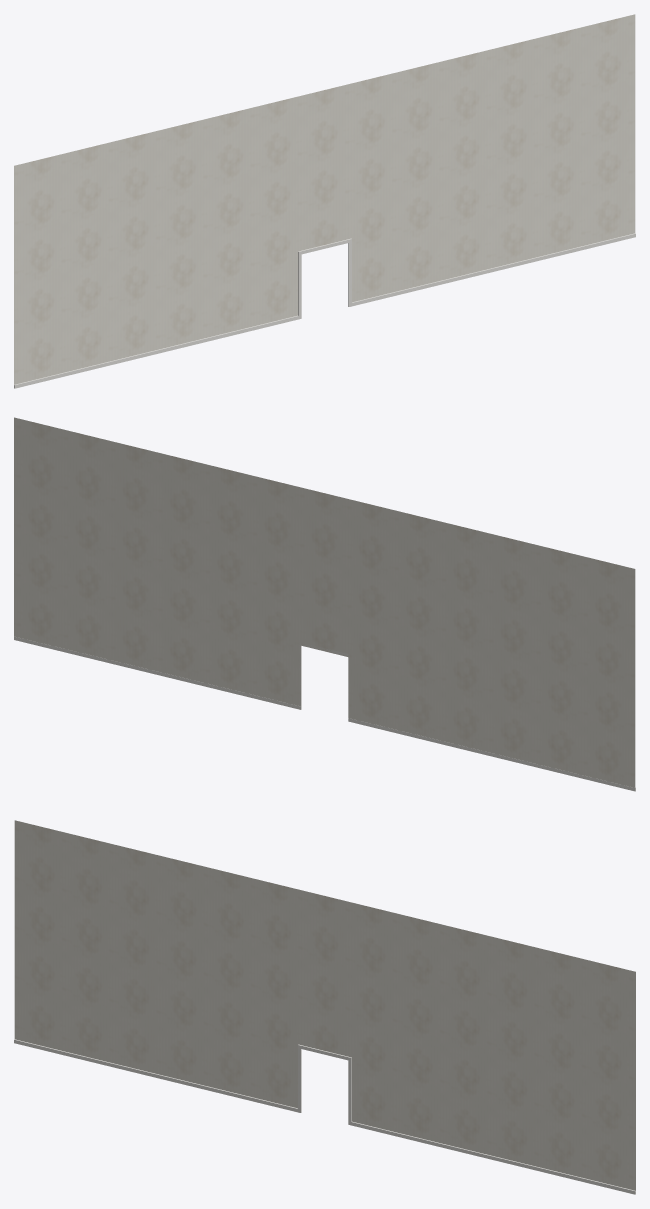
File: wm_26_50034dae.gltf
3 renders of one model, top to bottom at view 1: azimuth 30°, elevation 25°; view 2: azimuth 150°, elevation 25°; view 3: azimuth 330°, elevation 25°, orthographic.
Visible parts, largest first — view 1: jx_wm_26_50034dae; view 2: jx_wm_26_50034dae; view 3: jx_wm_26_50034dae.
Boxes of the visible parts, bbox=[...] form: jx_wm_26_50034dae: bbox=[14, 14, 635, 388]; jx_wm_26_50034dae: bbox=[14, 417, 635, 791]; jx_wm_26_50034dae: bbox=[14, 820, 635, 1194].
Bounding box in the file's own units: 26.3 × 9 × 0.05.
Materials: 2 (2 with a texture image).
